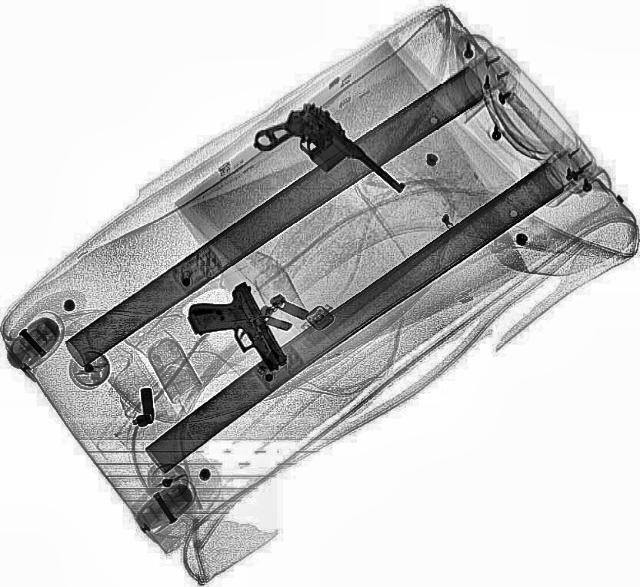Gun: (246, 92, 407, 231), (179, 280, 289, 388)
